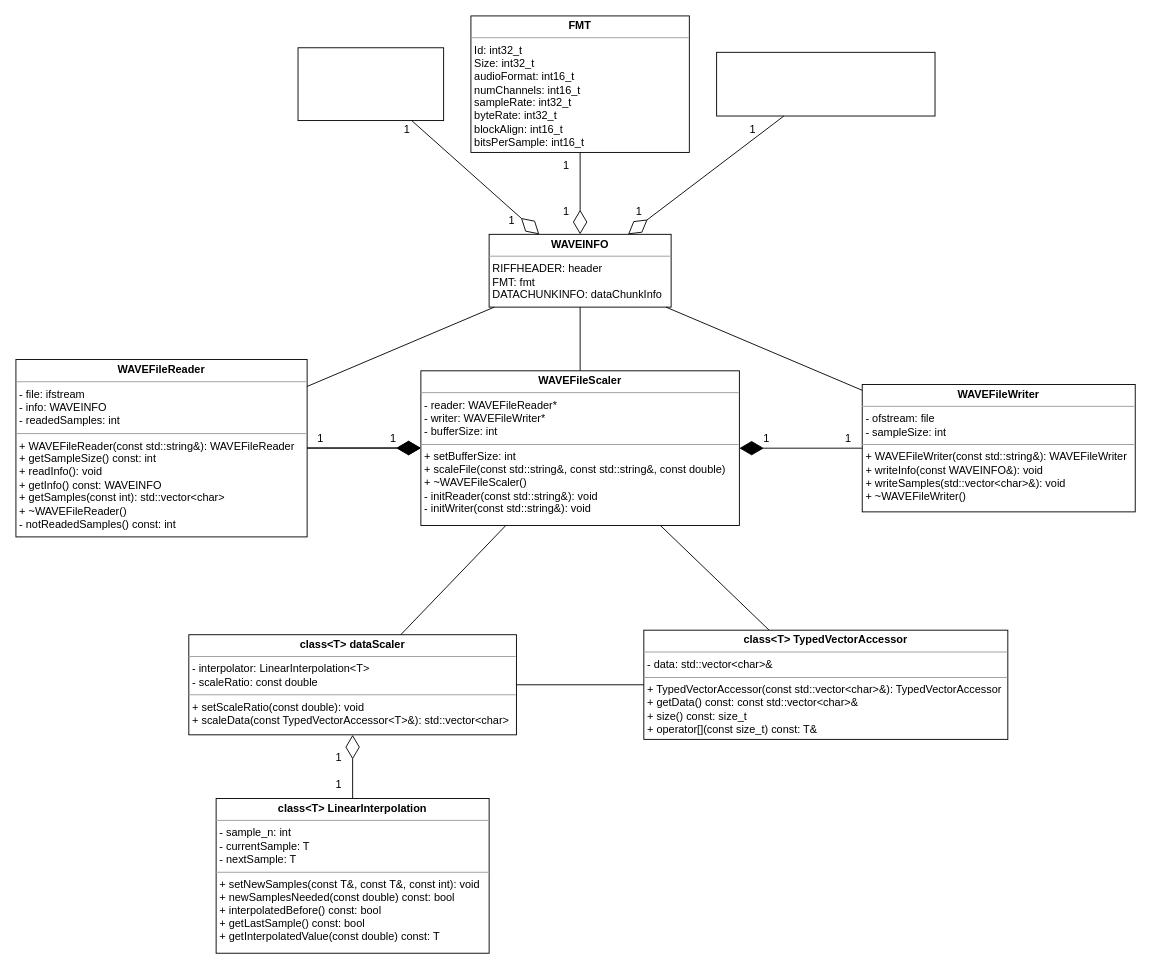
Some shapes in this 1151 by 969 pixel diagram are drawn without their labels. The box of each missing label's shape, as (x1, y1, x2, y2) in pixels:
DATACHUNKINFO Id: int32_t Size: int32_t: (716, 51, 935, 116)
RIFFHEADER chunkID: int32_t chunkSize: int32_t format: int32_t: (297, 47, 444, 121)
